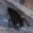cockroach: (7, 7, 24, 27)
